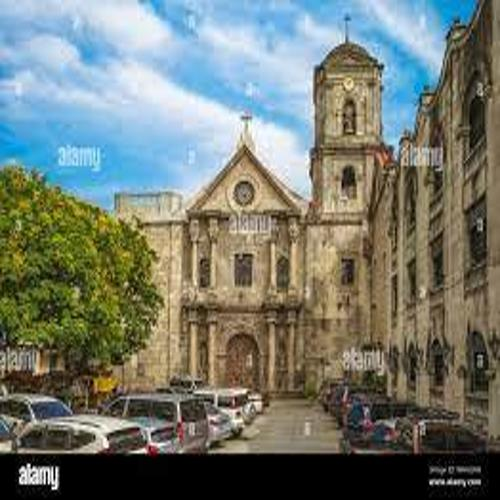San Agustin Church: (180, 8, 389, 398)
